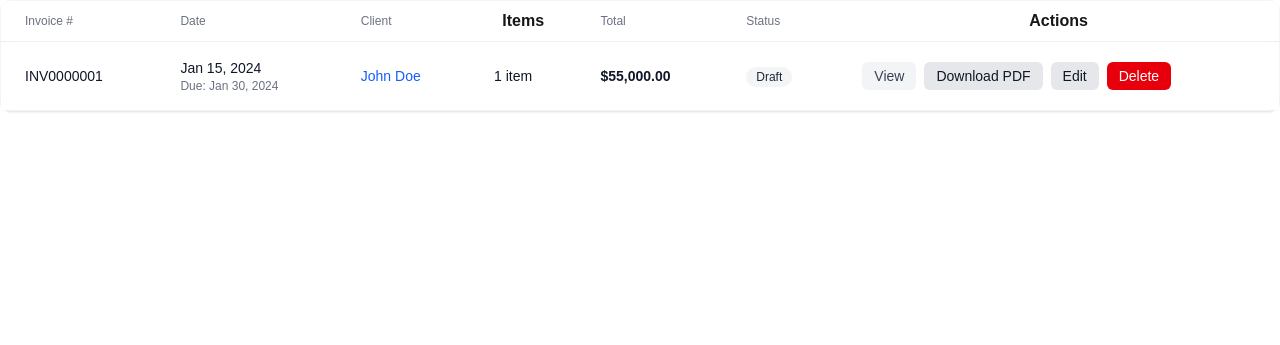
Scenario: InvoiceList › displays invoice notes in expanded view
What coordinates should you click on to do the following:
click the text "INV0000001"
I would click on:
 (640, 76)
Its box is x1=1 y1=42 x2=1279 y2=110.
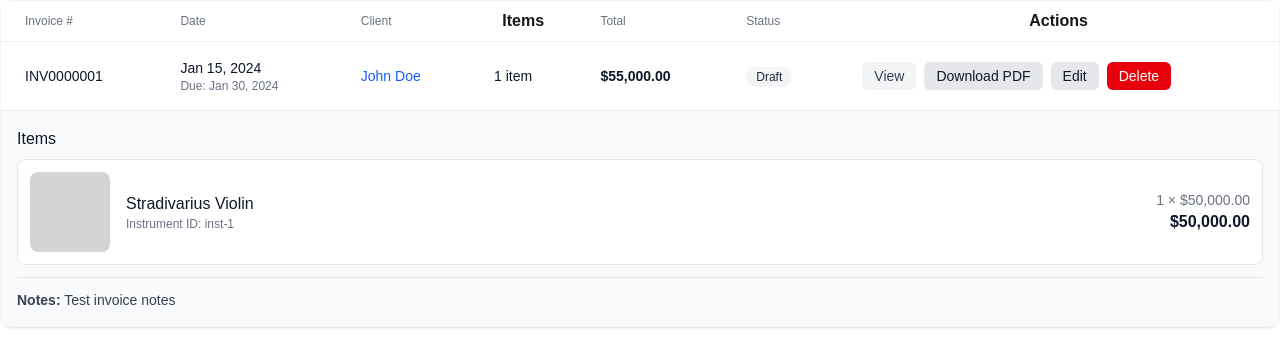
Expected: the text "Notes:" is shown, x1=17 y1=292 x2=61 y2=308
Expected: the text "Test invoice notes" is shown, x1=64 y1=292 x2=176 y2=308
